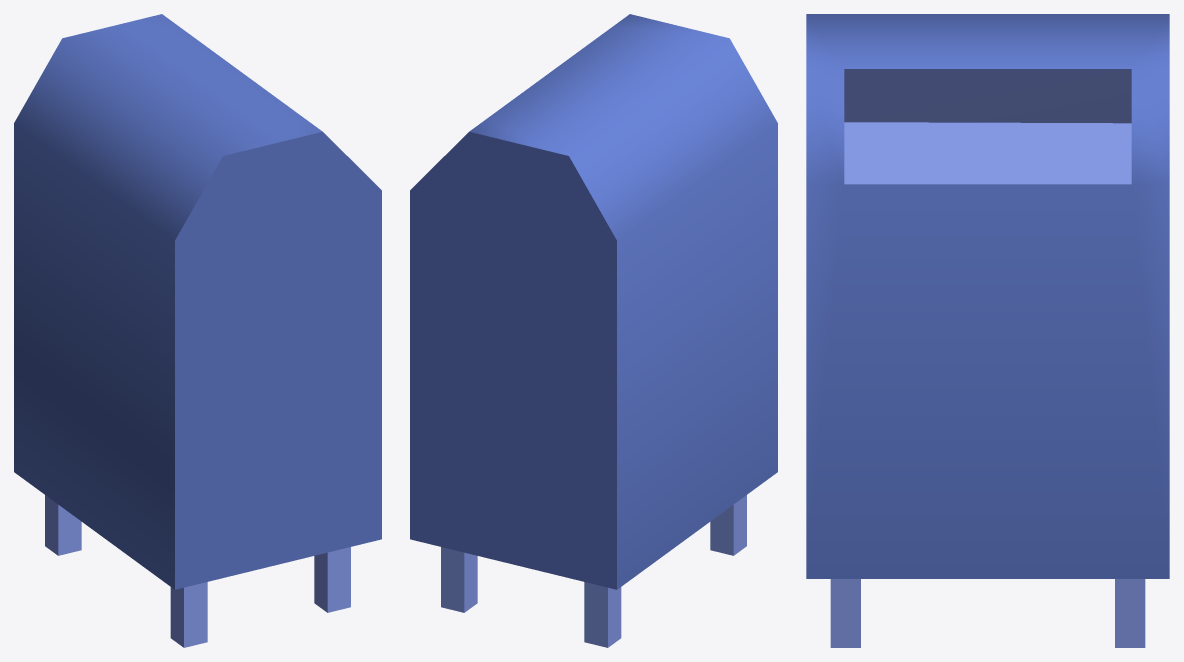
The model's file is MailBox_01a.fbx.
3 renders of one model, left to right at view 1: azimuth 30°, elevation 25°; view 2: azimuth 150°, elevation 25°; view 3: azimuth 270°, elevation 25°, orthographic. The views are drawn at different scales.
Visible parts, largest first — view 1: MailBox_01a; view 2: MailBox_01a; view 3: MailBox_01a.
Part boxes in pixels (left/top/right/bottom): MailBox_01a: left=14, top=14, right=381, bottom=647; MailBox_01a: left=410, top=14, right=777, bottom=647; MailBox_01a: left=806, top=14, right=1169, bottom=647.
Size of the model in its own units: 117 by 266 by 157.
